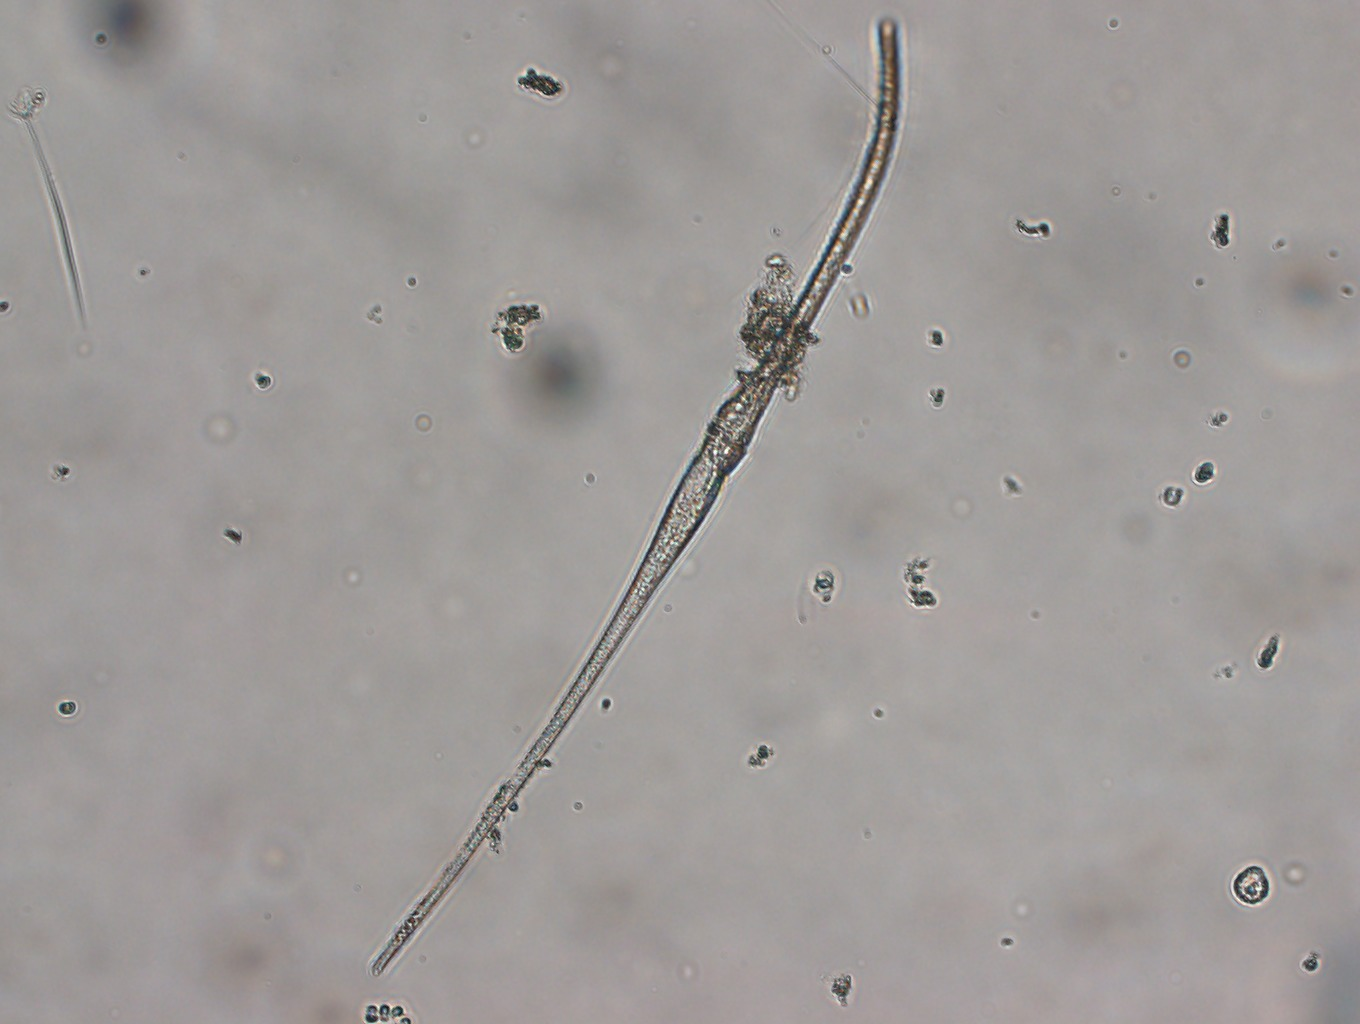ceratium fusus: (348, 1, 918, 986)
